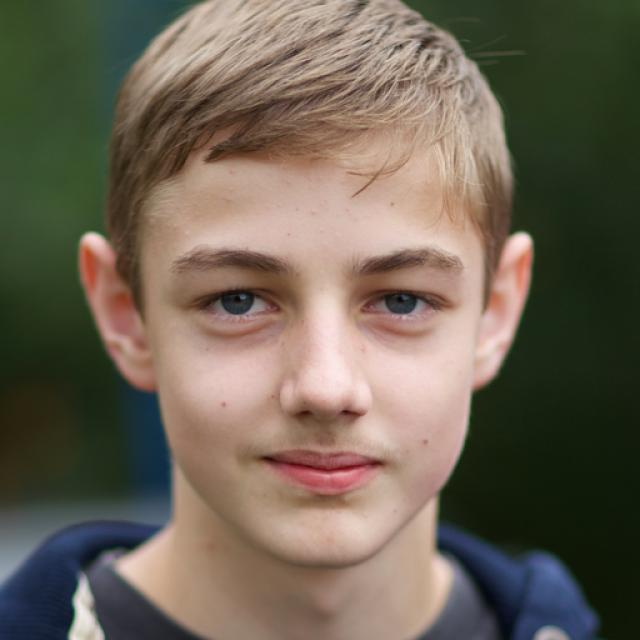content: (144, 128, 482, 568)
